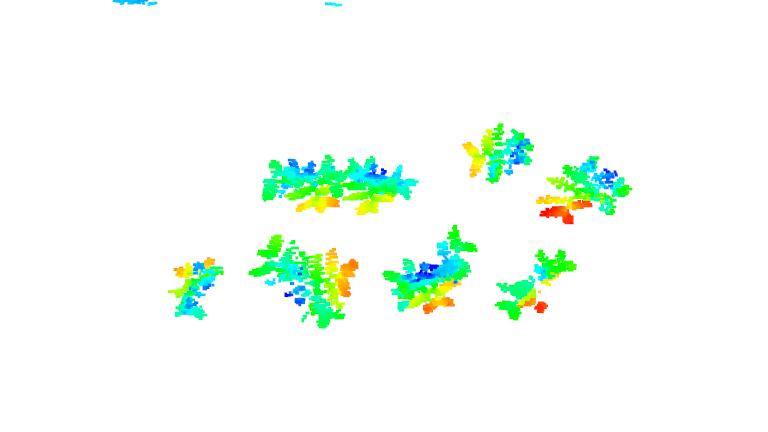chickpea: (244, 232, 360, 330), (381, 224, 479, 316), (535, 155, 634, 225), (491, 248, 581, 322), (262, 153, 347, 214), (460, 122, 538, 186), (341, 156, 419, 216), (168, 255, 225, 323)
